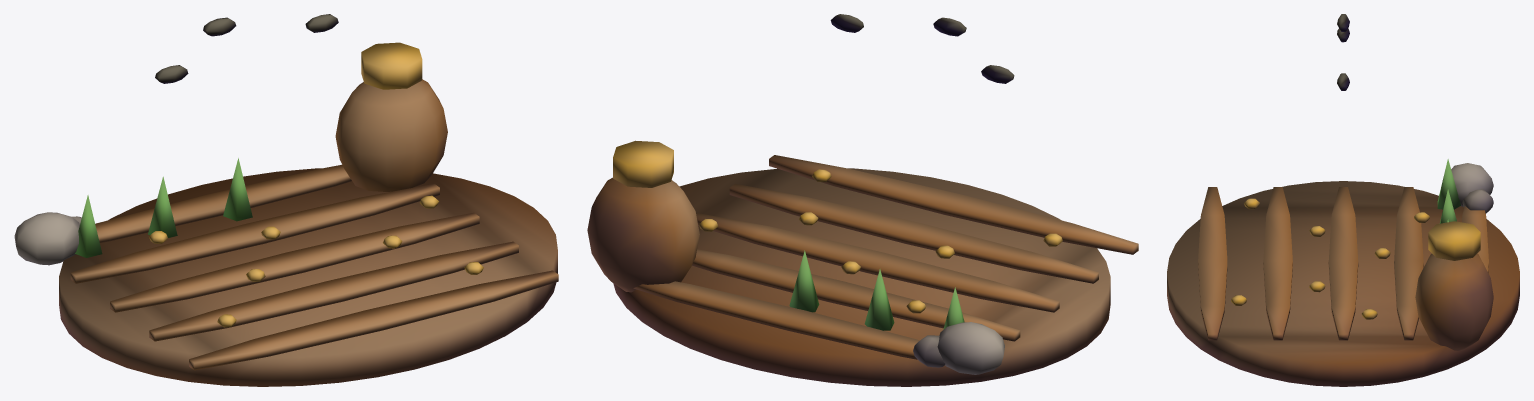
File: sower.glb
3 views of the same model, side by side, from view 1: azimuth 30°, elevation 25°; view 2: azimuth 150°, elevation 25°; view 3: azimuth 270°, elevation 25° (orthographic). The views are drawn at different scales.
Parts seen in each view (by area): view 1: sower; view 2: sower; view 3: sower.
Boxes of the visible parts, x1=… form: sower: x1=14, y1=14, x2=558, y2=386; sower: x1=587, y1=14, x2=1138, y2=386; sower: x1=1167, y1=14, x2=1519, y2=386.
Size of the model in its own units: 6.6 by 4.11 by 5.4.
